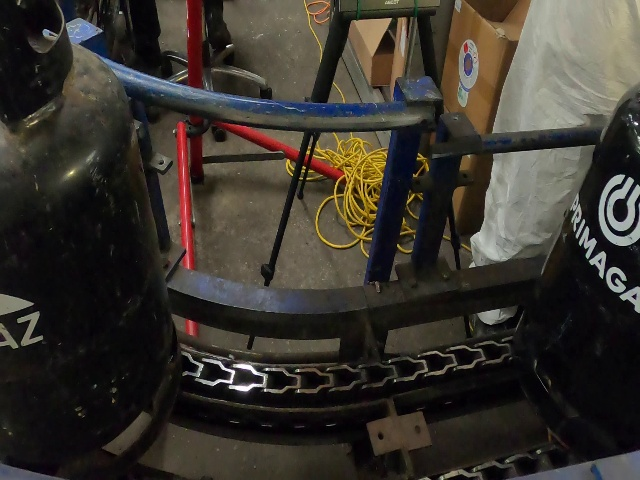gas_bottle: (4, 3, 640, 480)
